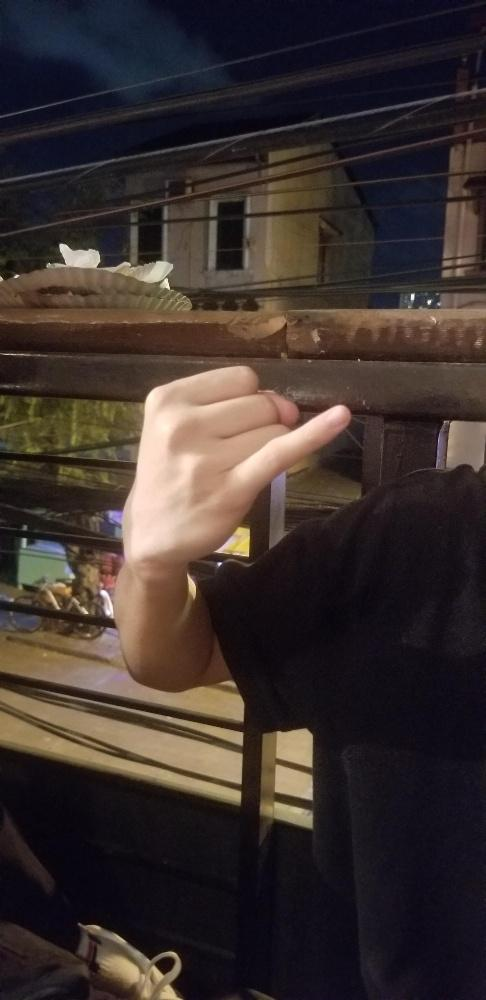j: (118, 361, 353, 568)
